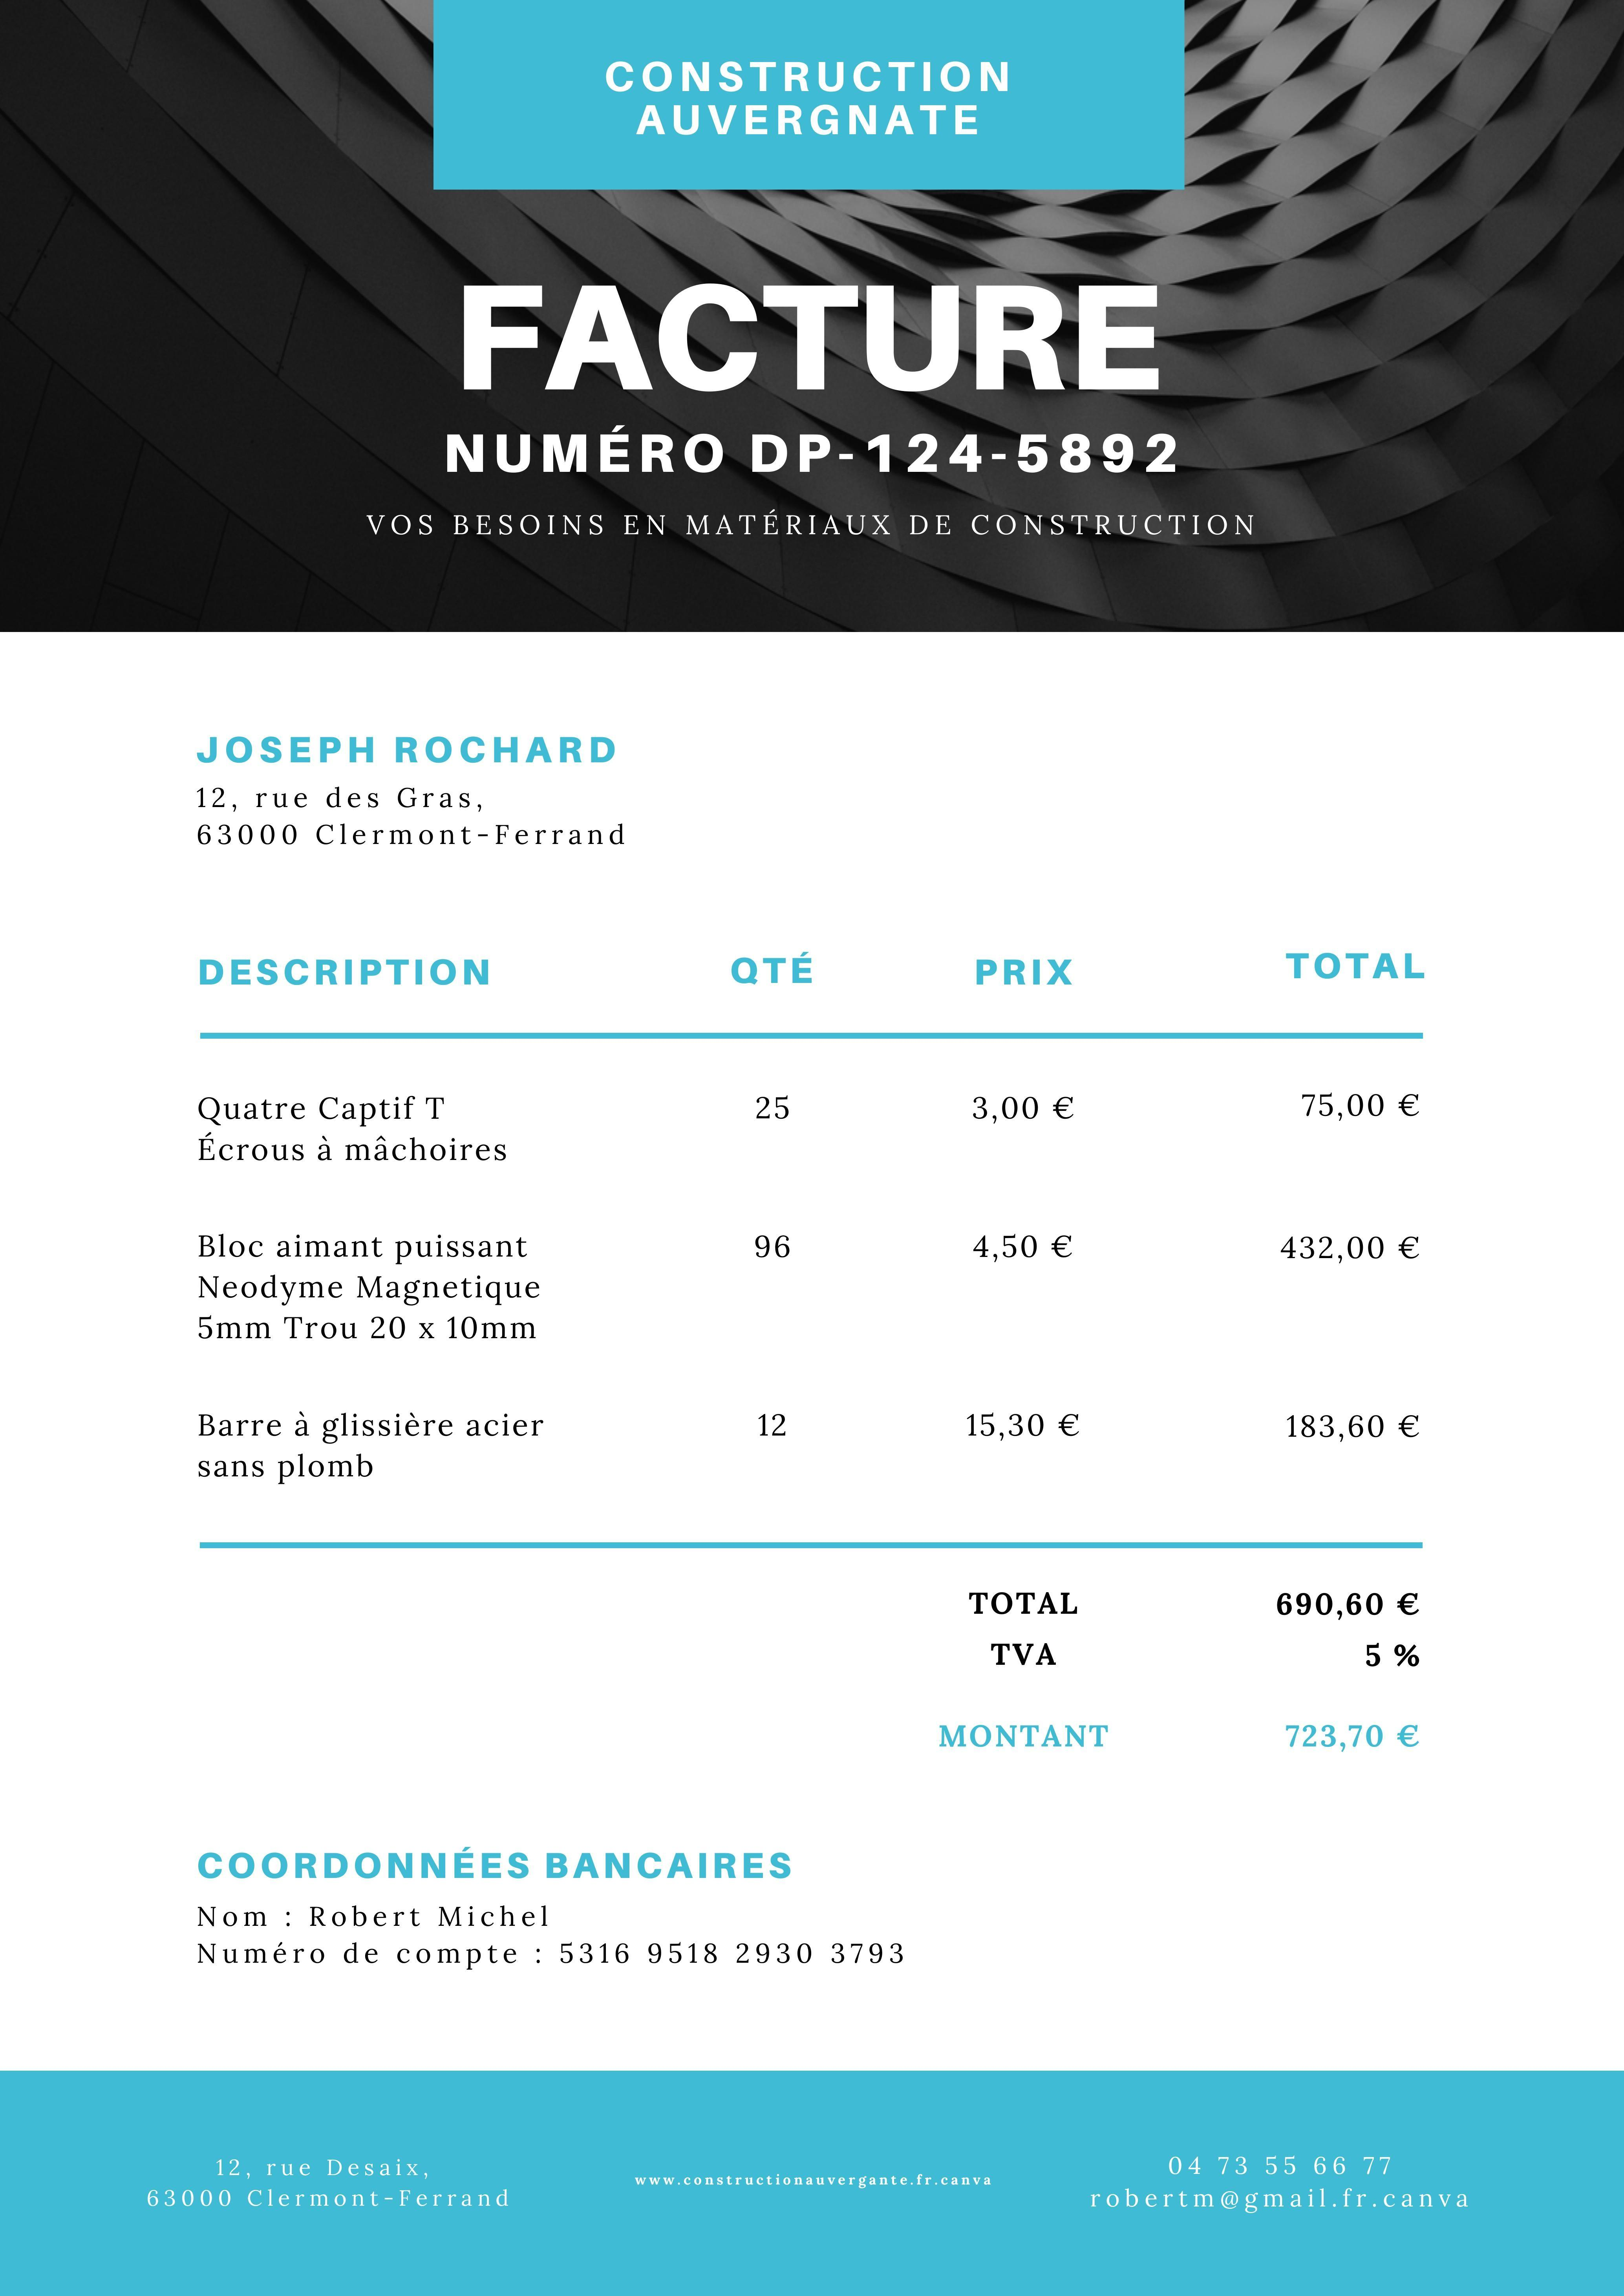ROI: (190, 942, 1445, 1488), (186, 1839, 912, 1980), (933, 1572, 1431, 1764), (179, 708, 663, 861), (381, 411, 1255, 494), (587, 35, 1033, 148)
